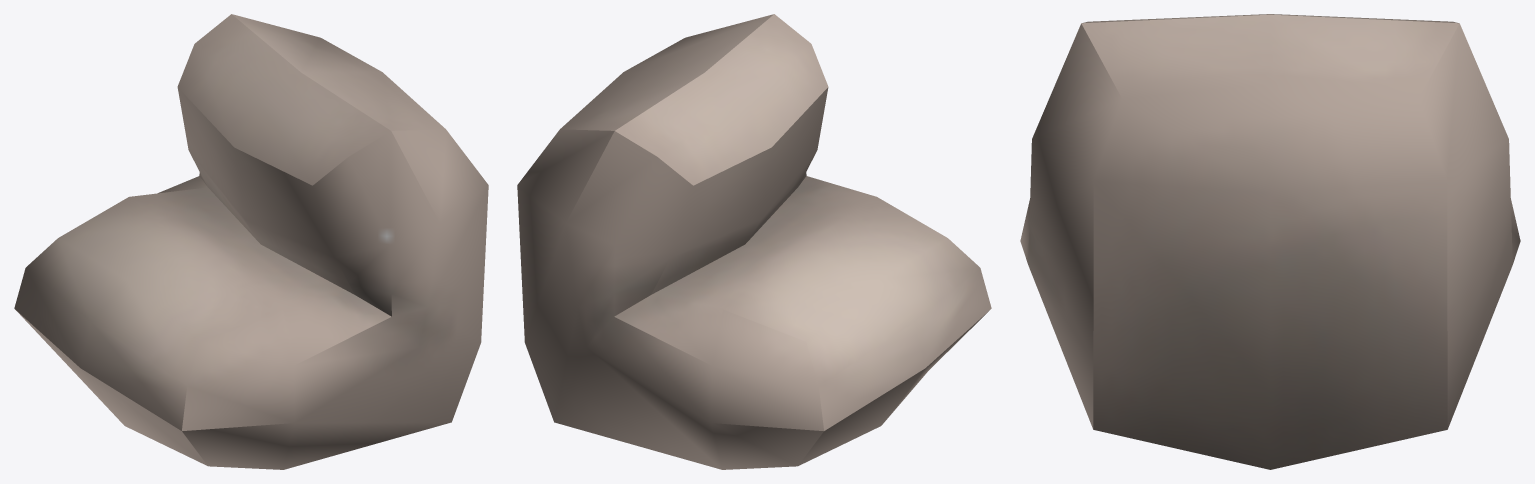
The model's file is Primera_Slums_Props _Sack03.fbx.
3 views of the same model, side by side, from view 1: azimuth 30°, elevation 25°; view 2: azimuth 150°, elevation 25°; view 3: azimuth 270°, elevation 25° (orthographic). The views are drawn at different scales.
Visible parts, largest first — view 1: Primera_Slums_Props _Sack03; view 2: Primera_Slums_Props _Sack03; view 3: Primera_Slums_Props _Sack03.
Boxes of the visible parts, box(x1,y1,x2,y2) form: Primera_Slums_Props _Sack03: box(14, 14, 488, 469); Primera_Slums_Props _Sack03: box(517, 14, 991, 469); Primera_Slums_Props _Sack03: box(1020, 14, 1520, 469).
Size of the model in its own units: 339 by 319 by 355.
Materials: 1 (1 with a texture image).
